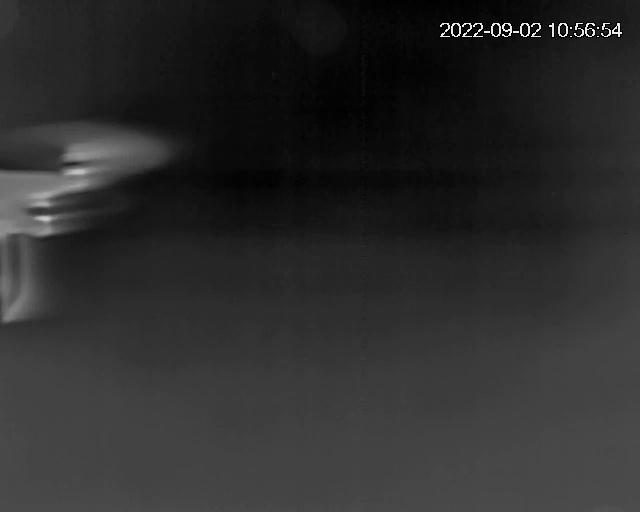DJI-Phantom: (0, 125, 160, 319)
